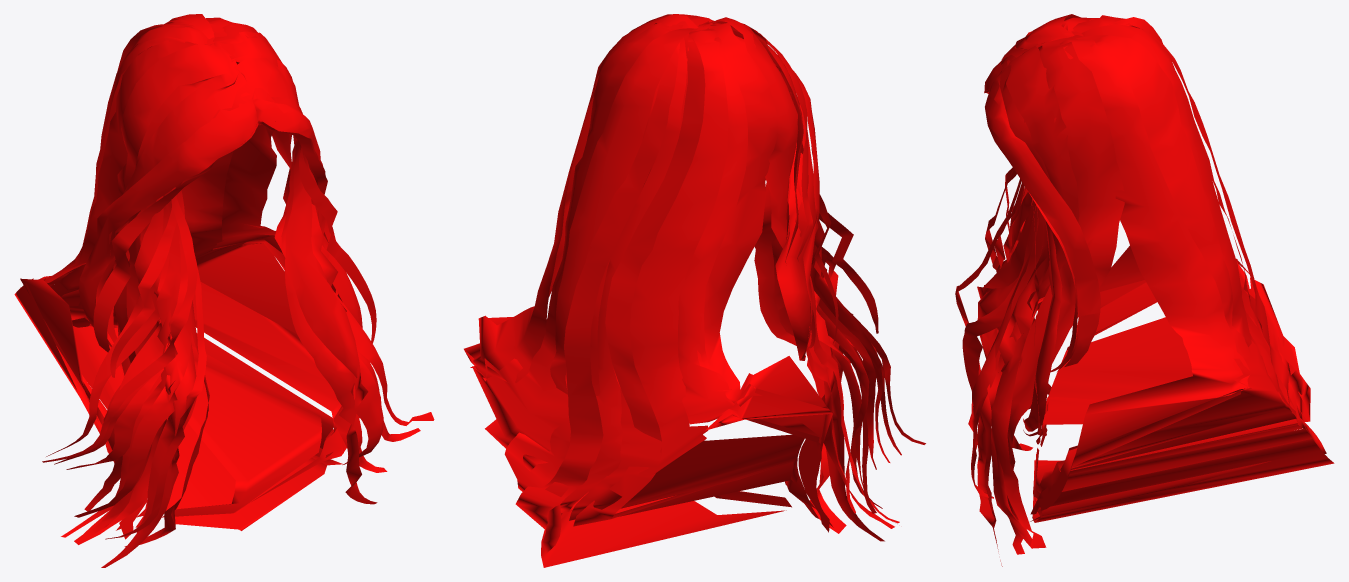
File: elvs_hazel_hair_M.glb
The picture shows the model from 3 angles, left to right: view 1: azimuth 30°, elevation 25°; view 2: azimuth 150°, elevation 25°; view 3: azimuth 270°, elevation 25°; orthographic projection. The views are drawn at different scales.
Bounding box in the file's own units: 0.5095 × 0.5965 × 0.4192.
Materials: 1 (1 with a texture image).
